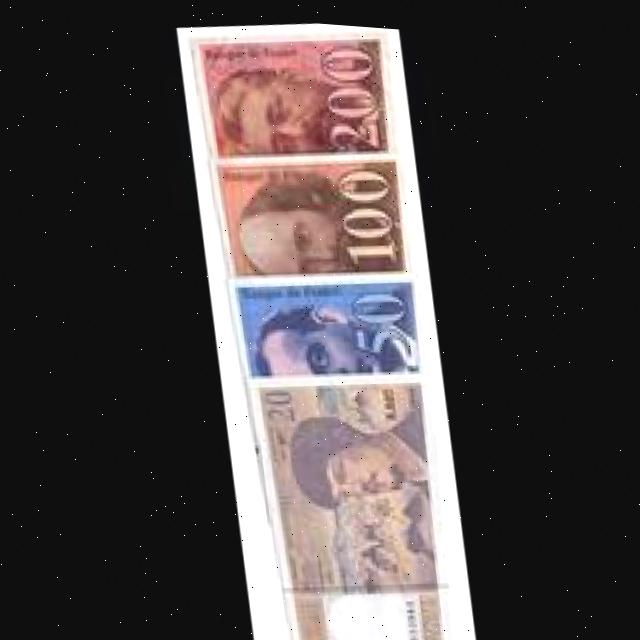banknote: (242, 356, 455, 640), (177, 10, 398, 172), (202, 137, 414, 285), (220, 250, 428, 388), (307, 29, 388, 151), (328, 155, 404, 268), (346, 283, 415, 355), (254, 381, 301, 424)
